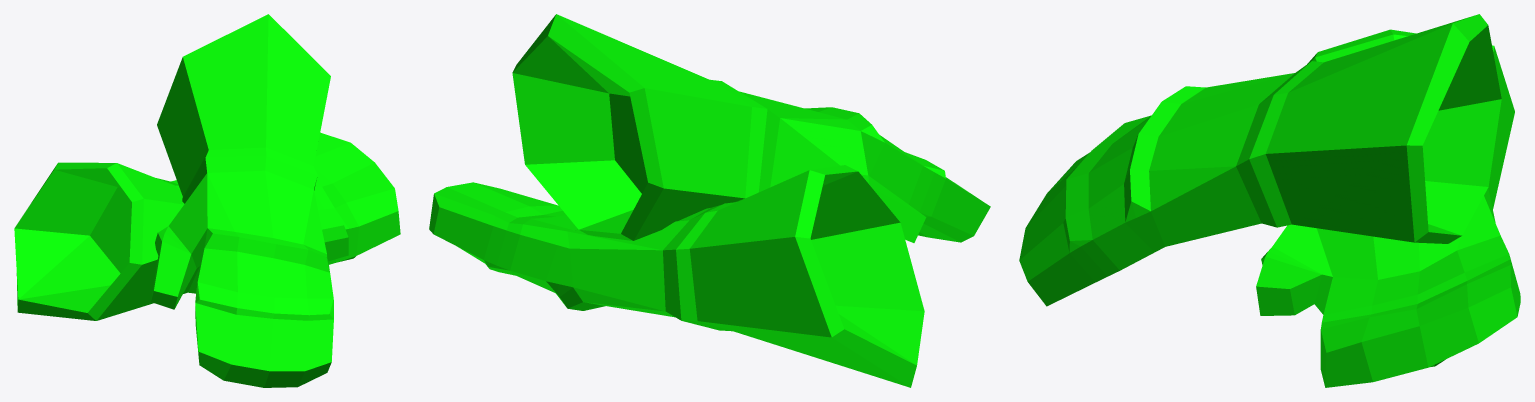
The model's file is SM_Armor_Gloves_C_Placed_Fantasy.fbx.
3 views of the same model, side by side, from view 1: azimuth 30°, elevation 25°; view 2: azimuth 150°, elevation 25°; view 3: azimuth 270°, elevation 25° (orthographic). The views are drawn at different scales.
Visible parts, largest first — view 1: armor-gloves-c-placed-fantasy; view 2: armor-gloves-c-placed-fantasy; view 3: armor-gloves-c-placed-fantasy.
Boxes of the visible parts, <box> form: armor-gloves-c-placed-fantasy: <box>14,14,400,387</box>; armor-gloves-c-placed-fantasy: <box>429,14,990,387</box>; armor-gloves-c-placed-fantasy: <box>1019,14,1520,387</box>.
Bounding box in the file's own units: 0.358 × 0.23 × 0.2998.
